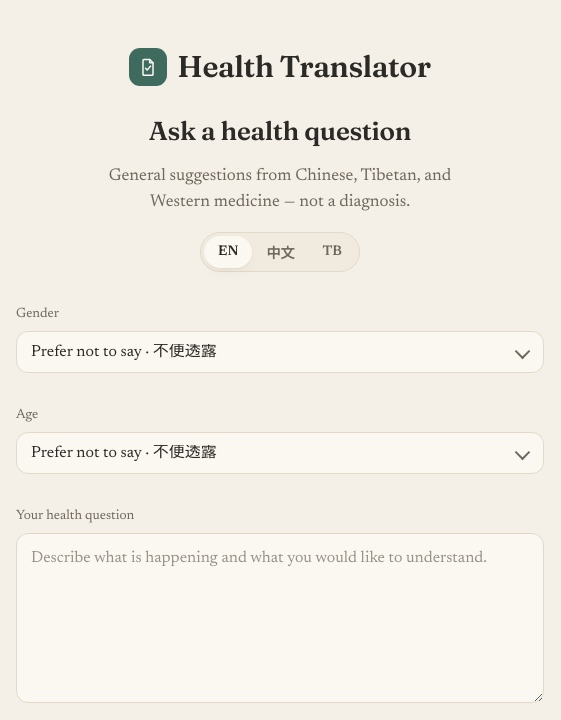
advice page T4 live flow › keeps the frame and suppresses schools for a out-of-scope refusal
The image size is (561, 720).
Replace the text in the text box labelled "Your health question" with "How can I sleep better?" at {"x": 280, "y": 618}, box 16,533 -> 544,703
(page scrolled)
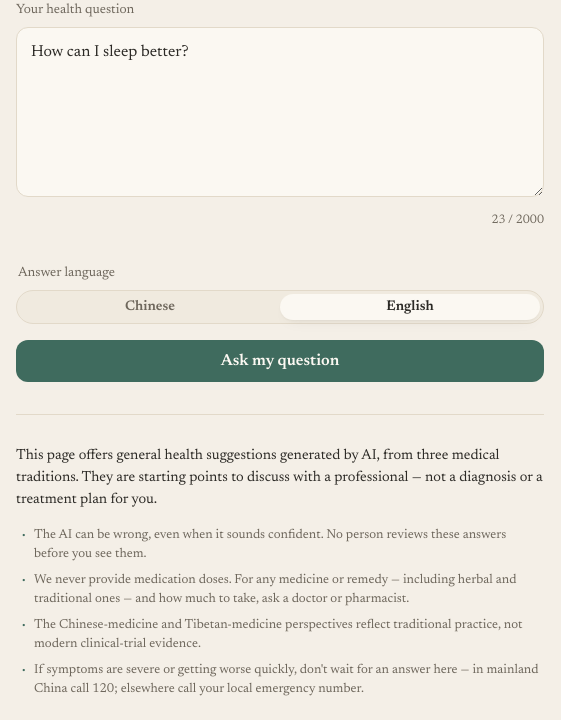
Click the button "Ask my question" at {"x": 280, "y": 361}, box 16,340 -> 544,382
(page scrolled)
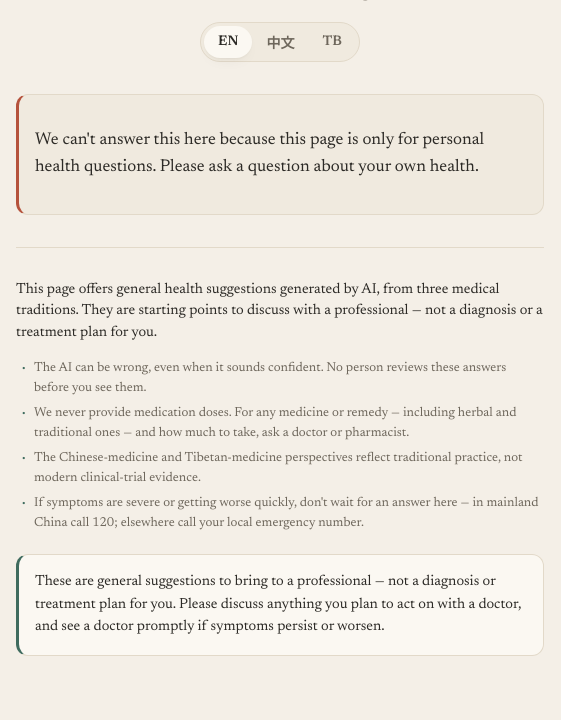
Expected: the number of elements with test id "advice-disclaimer" is 5, 16,278 -> 544,344; 16,358 -> 544,397; 16,403 -> 544,442; 16,448 -> 544,487; 16,493 -> 544,532
Result: the element with test id "advice-refusal" shows "We can't answer this here because this page is only for personal health questions" at 35,132 -> 484,176
